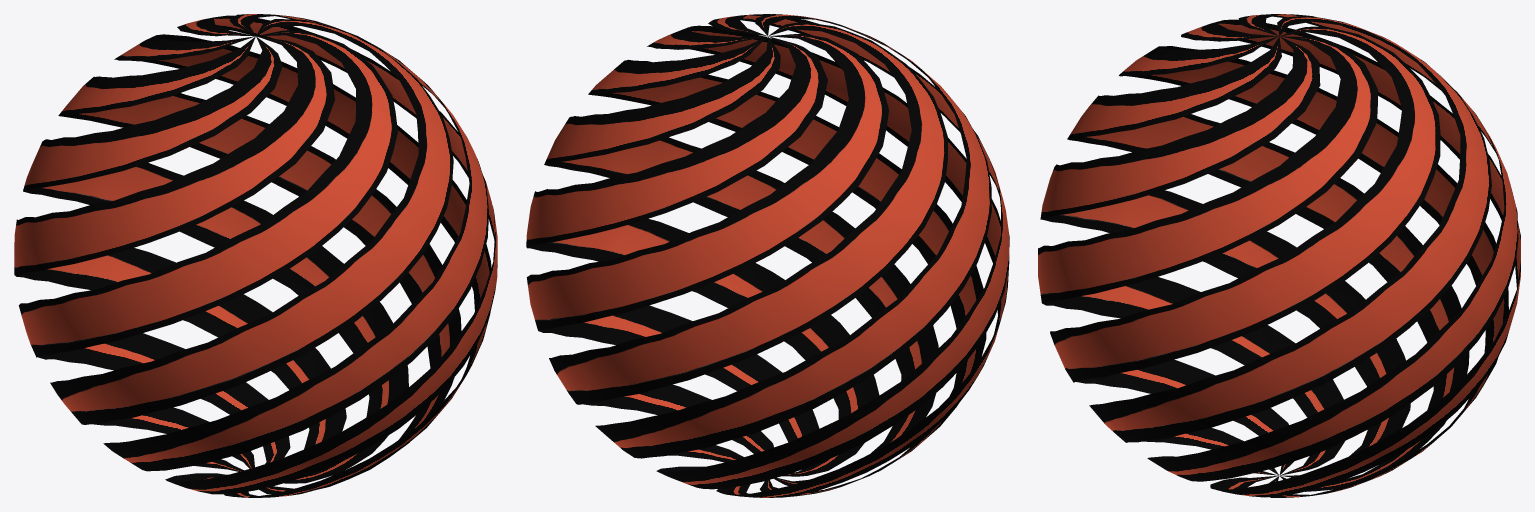
File: yuanxianquan.FBX
3 views of the same model, side by side, from view 1: azimuth 30°, elevation 25°; view 2: azimuth 150°, elevation 25°; view 3: azimuth 270°, elevation 25° (orthographic).
Visible parts, largest first — view 1: Sphere006, Sphere007, Sphere003, Sphere009, Sphere004, Sphere005, Sphere002, Sphere008; view 2: Sphere009, Sphere005, Sphere008, Sphere003, Sphere002, Sphere006, Sphere004, Sphere007; view 3: Sphere002, Sphere004, Sphere008, Sphere007, Sphere005, Sphere006, Sphere009, Sphere003.
Part boxes in pixels (bbox=[...]): Sphere006: bbox=[18, 30, 397, 463]; Sphere007: bbox=[50, 19, 453, 468]; Sphere003: bbox=[14, 36, 346, 449]; Sphere009: bbox=[23, 36, 408, 483]; Sphere004: bbox=[103, 14, 488, 471]; Sphere005: bbox=[58, 36, 461, 493]; Sphere002: bbox=[165, 15, 497, 494]; Sphere008: bbox=[114, 34, 491, 497]; Sphere009: bbox=[549, 22, 947, 453]; Sphere005: bbox=[526, 34, 888, 442]; Sphere008: bbox=[526, 36, 879, 476]; Sphere003: bbox=[595, 14, 991, 462]; Sphere002: bbox=[544, 37, 938, 485]; Sphere006: bbox=[656, 14, 1009, 489]; Sphere004: bbox=[588, 36, 986, 497]; Sphere007: bbox=[647, 25, 1009, 497]; Sphere002: bbox=[1050, 26, 1440, 474]; Sphere004: bbox=[1038, 36, 1378, 475]; Sphere008: bbox=[1089, 15, 1491, 474]; Sphere007: bbox=[1040, 36, 1410, 477]; Sphere005: bbox=[1147, 14, 1518, 481]; Sphere006: bbox=[1067, 36, 1469, 491]; Sphere009: bbox=[1181, 19, 1520, 497]; Sphere003: bbox=[1119, 36, 1508, 497].
Size of the model in its own units: 129 by 129 by 129.
